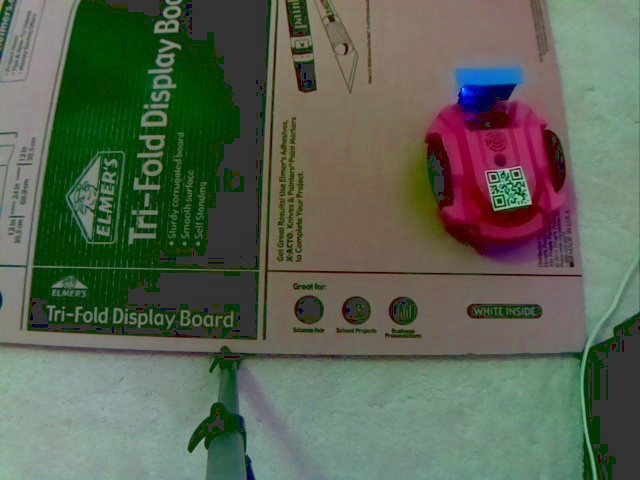board: (438, 52, 531, 112)
chassis: (423, 64, 572, 252)
